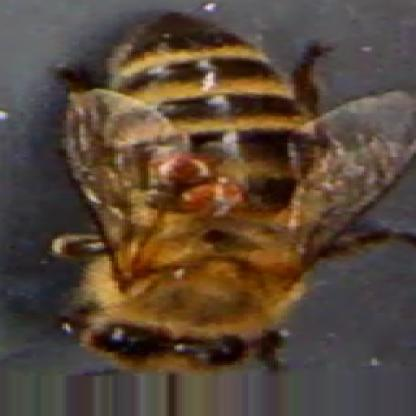bee: (86, 16, 304, 364)
vaoora: (180, 186, 252, 206), (155, 158, 210, 180)
